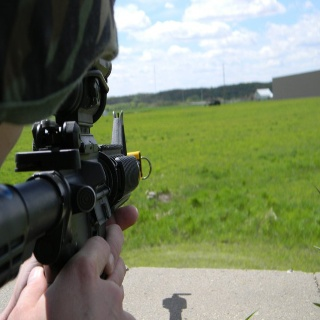rifle: (1, 67, 149, 294)
